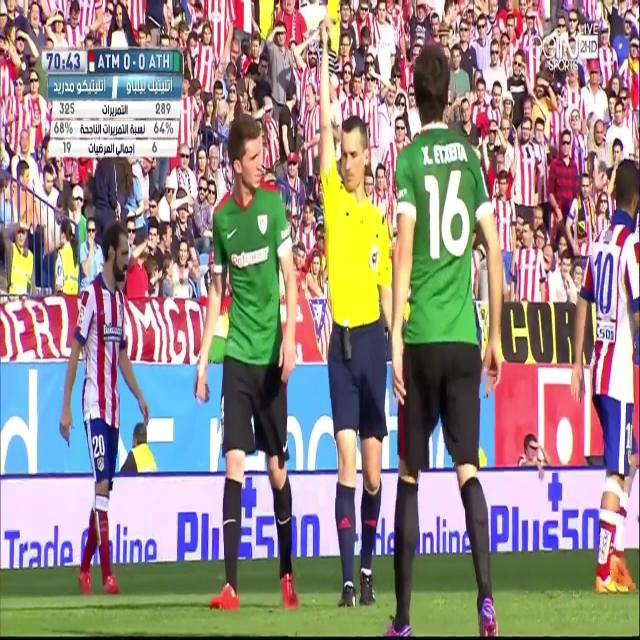Player: (383, 32, 506, 638), (193, 114, 300, 614), (57, 217, 153, 595), (567, 154, 640, 600)
Referee: (316, 16, 392, 608)
